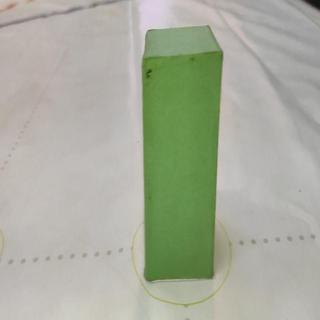greenbox: (139, 25, 226, 282)
